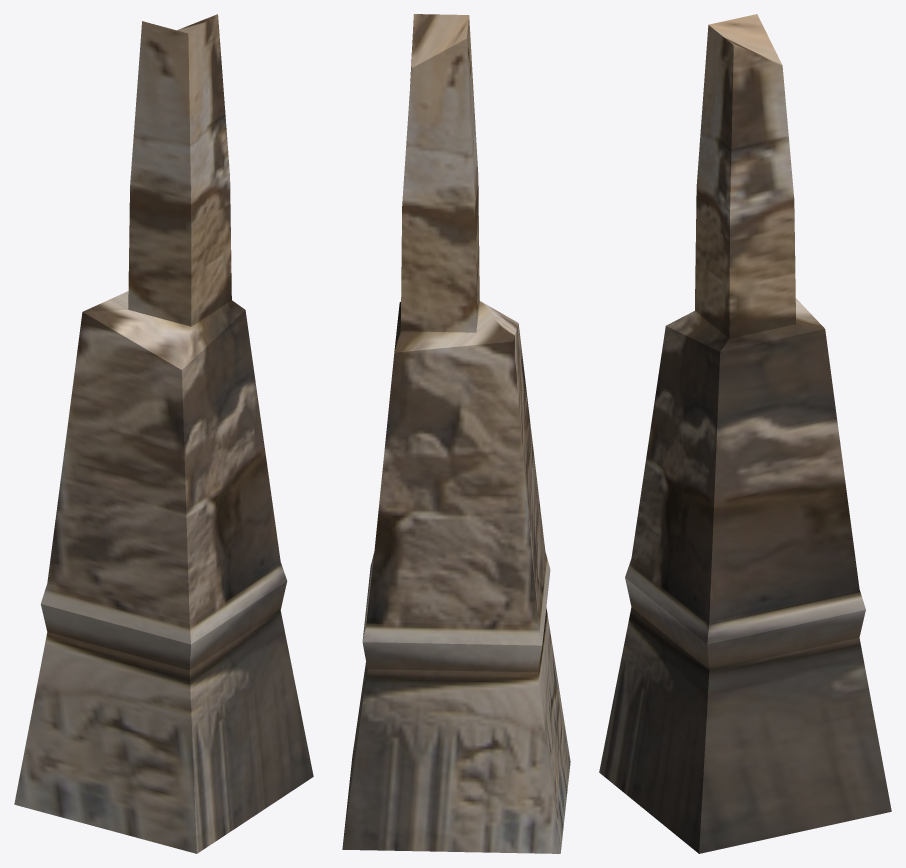
Rendered from RUINSLONG.obj.
3 views of the same model, side by side, from view 1: azimuth 30°, elevation 25°; view 2: azimuth 150°, elevation 25°; view 3: azimuth 270°, elevation 25° (orthographic).
Visible parts, largest first — view 1: Cube.001_Cube.002; view 2: Cube.001_Cube.002; view 3: Cube.001_Cube.002.
Boxes of the visible parts, x1,y1,x2,y2 form: Cube.001_Cube.002: (14, 14, 313, 853); Cube.001_Cube.002: (342, 14, 570, 853); Cube.001_Cube.002: (599, 14, 891, 853).
Size of the model in its own units: 0.6512 by 1.89 by 0.6512.
